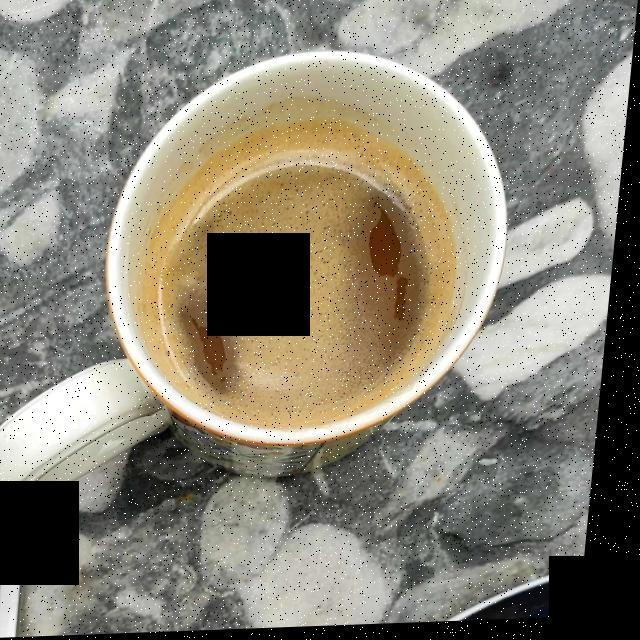coffee: (154, 125, 462, 422)
